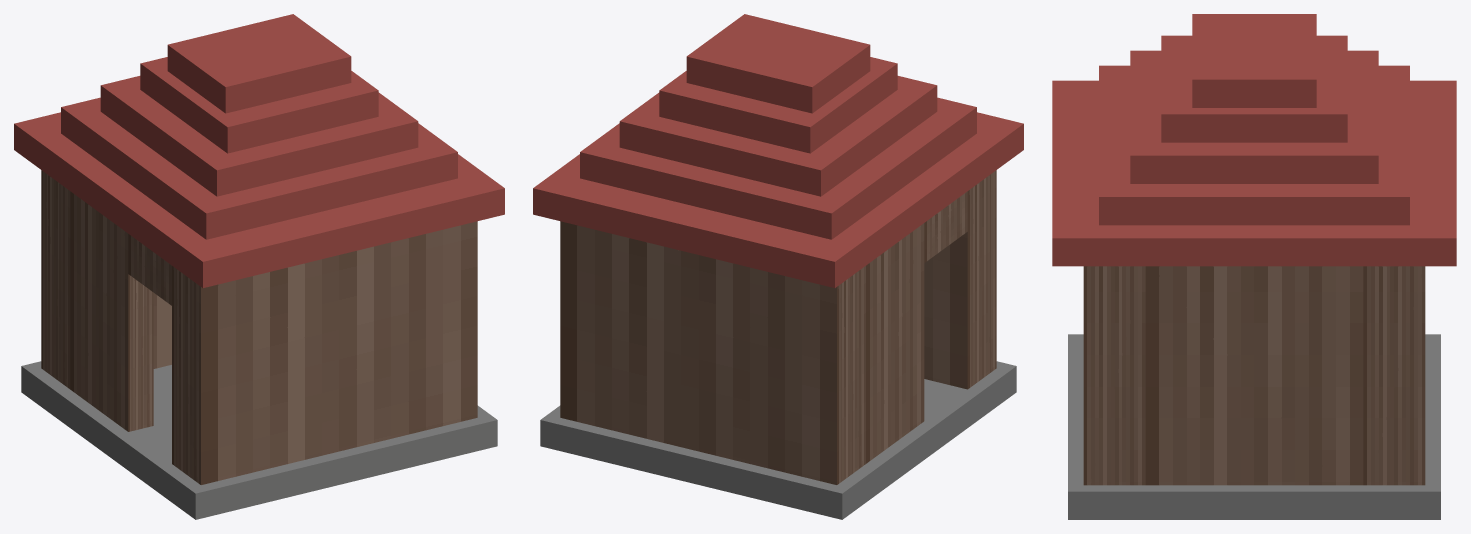
The model's file is Talo.gltf.
The picture shows the model from 3 angles, left to right: view 1: azimuth 30°, elevation 25°; view 2: azimuth 150°, elevation 25°; view 3: azimuth 270°, elevation 25°; orthographic projection. The views are drawn at different scales.
Visible parts, largest first — view 1: mesh (×10); view 2: mesh (×10); view 3: mesh (×9).
Boxes of the visible parts, bbox=[...] form: mesh (×10): bbox=[14, 14, 504, 519]; mesh (×10): bbox=[533, 14, 1023, 519]; mesh (×9): bbox=[1052, 14, 1456, 519].
Bounding box in the file's own units: 1.5 × 1.75 × 1.62.
3 materials, 3 textured.
